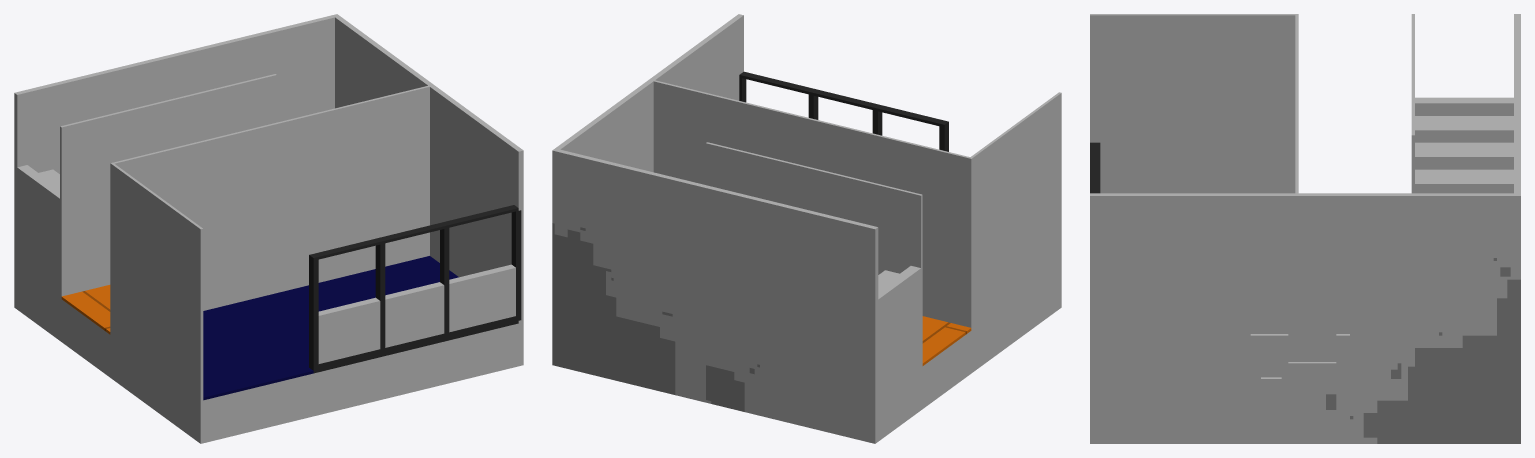
File: 2x2 first 1(1)-2.obj
3 views of the same model, side by side, from view 1: azimuth 30°, elevation 25°; view 2: azimuth 150°, elevation 25°; view 3: azimuth 270°, elevation 25° (orthographic). The views are drawn at different scales.
Visible parts, largest first — view 1: 2x2 first 1(1)-2; view 2: 2x2 first 1(1)-2; view 3: 2x2 first 1(1)-2.
Part boxes in pixels (x1,y1,x2,y2): 2x2 first 1(1)-2: [14, 14, 523, 443]; 2x2 first 1(1)-2: [552, 14, 1061, 443]; 2x2 first 1(1)-2: [1090, 14, 1520, 443].
Bounding box in the file's own units: 126 × 80 × 126.
Materials: 1 (1 with a texture image).
